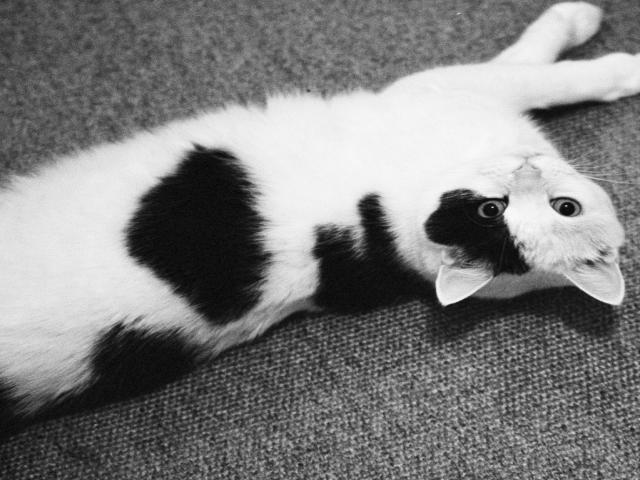Cat: (0, 0, 640, 441)
